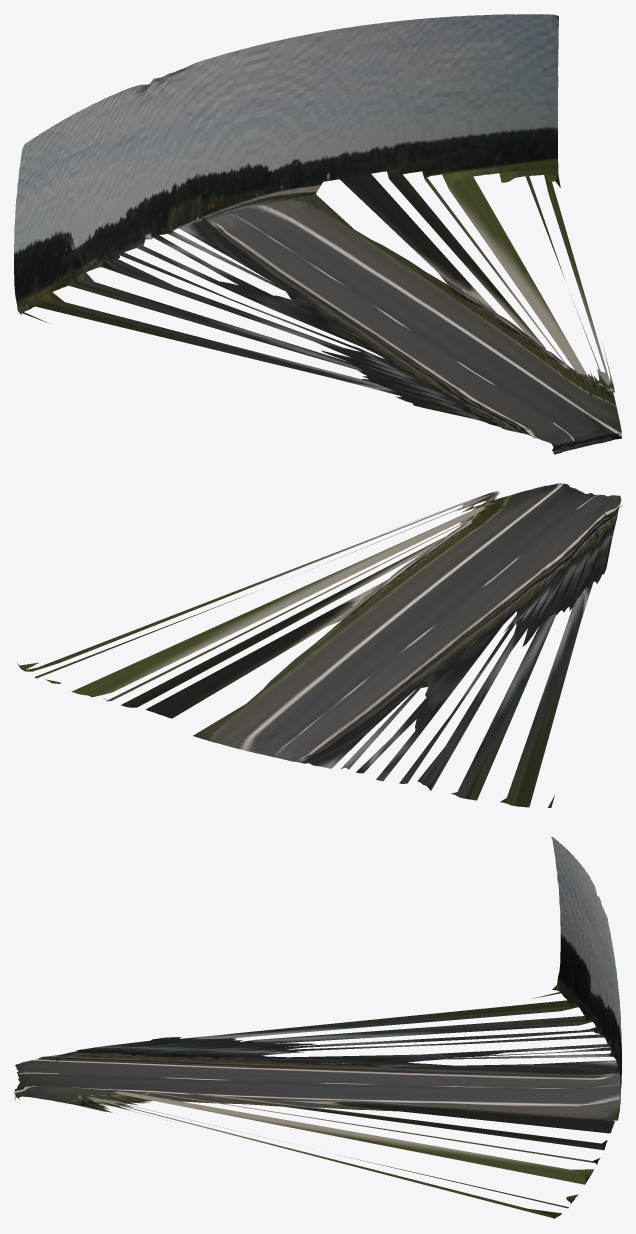
The picture shows the model from 3 angles, top to bottom: view 1: azimuth 30°, elevation 25°; view 2: azimuth 150°, elevation 25°; view 3: azimuth 270°, elevation 25°; orthographic projection. The views are drawn at different scales.
Visible parts, largest first — view 1: defaultobject; view 2: defaultobject; view 3: defaultobject.
Boxes of the visible parts, x1,y1,x2,y2 form: defaultobject: (14,14,621,454); defaultobject: (17,483,621,807); defaultobject: (14,836,621,1218).
Size of the model in its own units: 41.16 by 13.37 by 44.32.
Materials: 1 (1 with a texture image).
